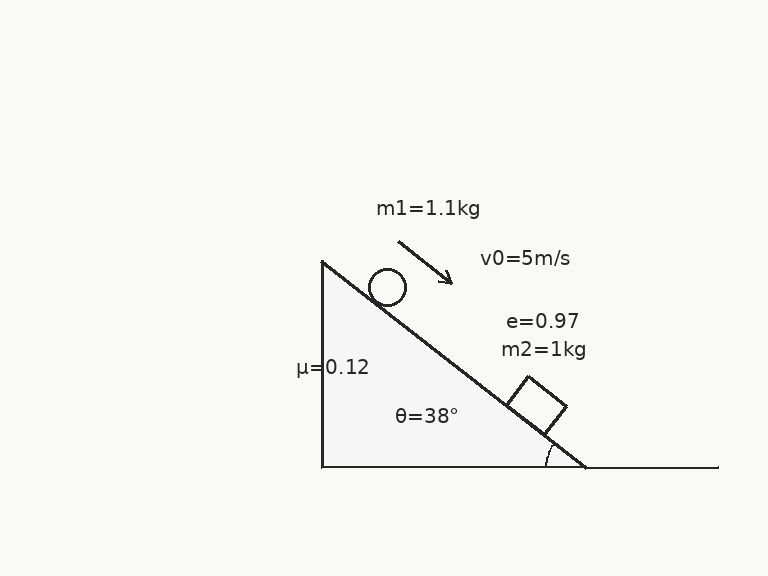ball: (366, 266, 408, 309)
block: (504, 374, 568, 436)
ramp: (320, 259, 588, 469)
